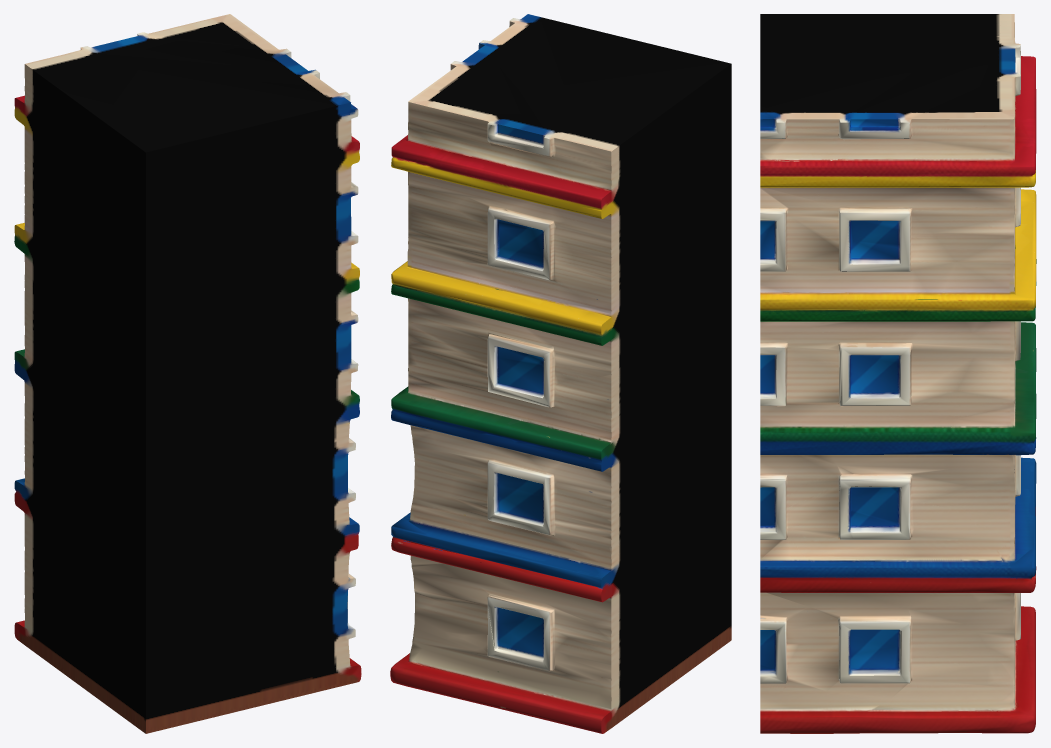
Rendered from 4-ground-floor-back-right.fbx.
3 views of the same model, side by side, from view 1: azimuth 30°, elevation 25°; view 2: azimuth 150°, elevation 25°; view 3: azimuth 270°, elevation 25° (orthographic). The views are drawn at different scales.
Visible parts, largest first — view 1: ground-floor-back-right; view 2: ground-floor-back-right; view 3: ground-floor-back-right.
Boxes of the visible parts, x1,y1,x2,y2 form: ground-floor-back-right: (14,14,361,733); ground-floor-back-right: (390,14,731,733); ground-floor-back-right: (760,14,1036,733).
Bounding box in the file's own units: 4254 × 10955 × 4491.
Materials: 1 (1 with a texture image).
